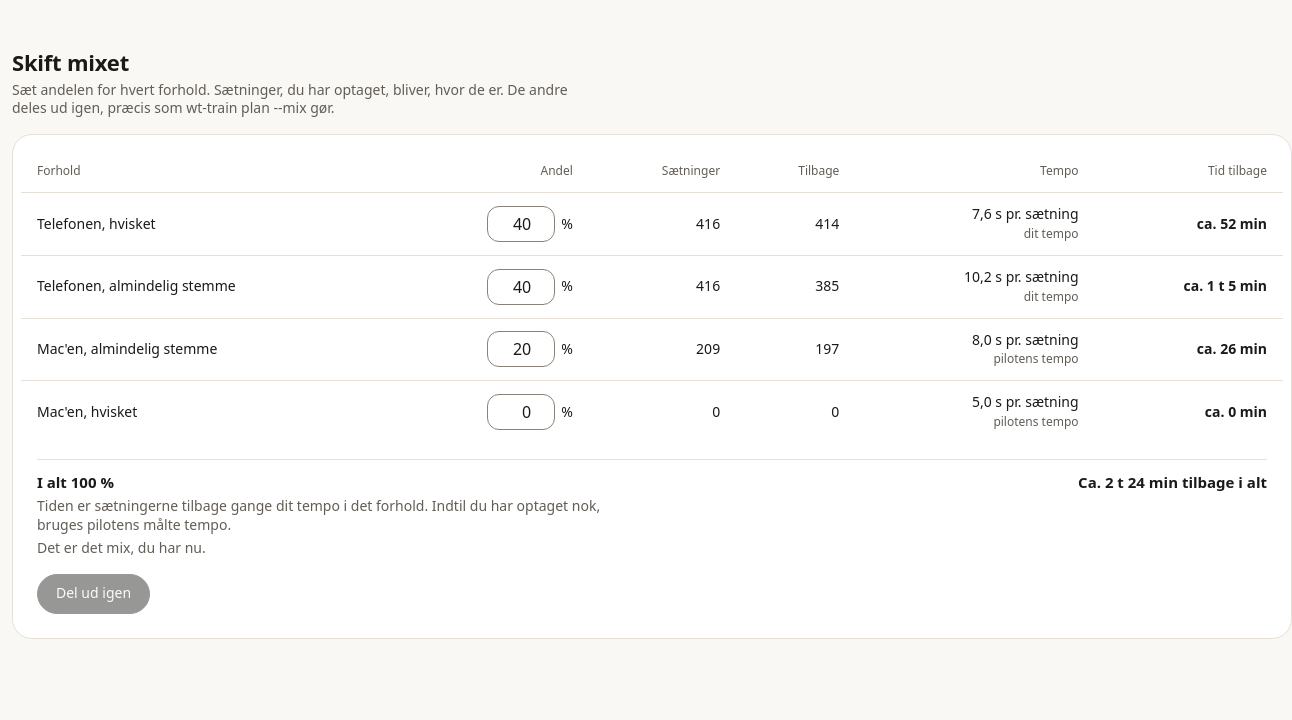
it: the mix › previews a new mix, then deals it as wt-train plan --mix does
Expected: the table is shown, top-left (21, 151), bottom-right (1283, 443)
Replace the text in the number field named "Andel for Telefonen, hvisket i procent" with "30". click: [521, 224]
box: top-left (487, 206), bottom-right (555, 242)
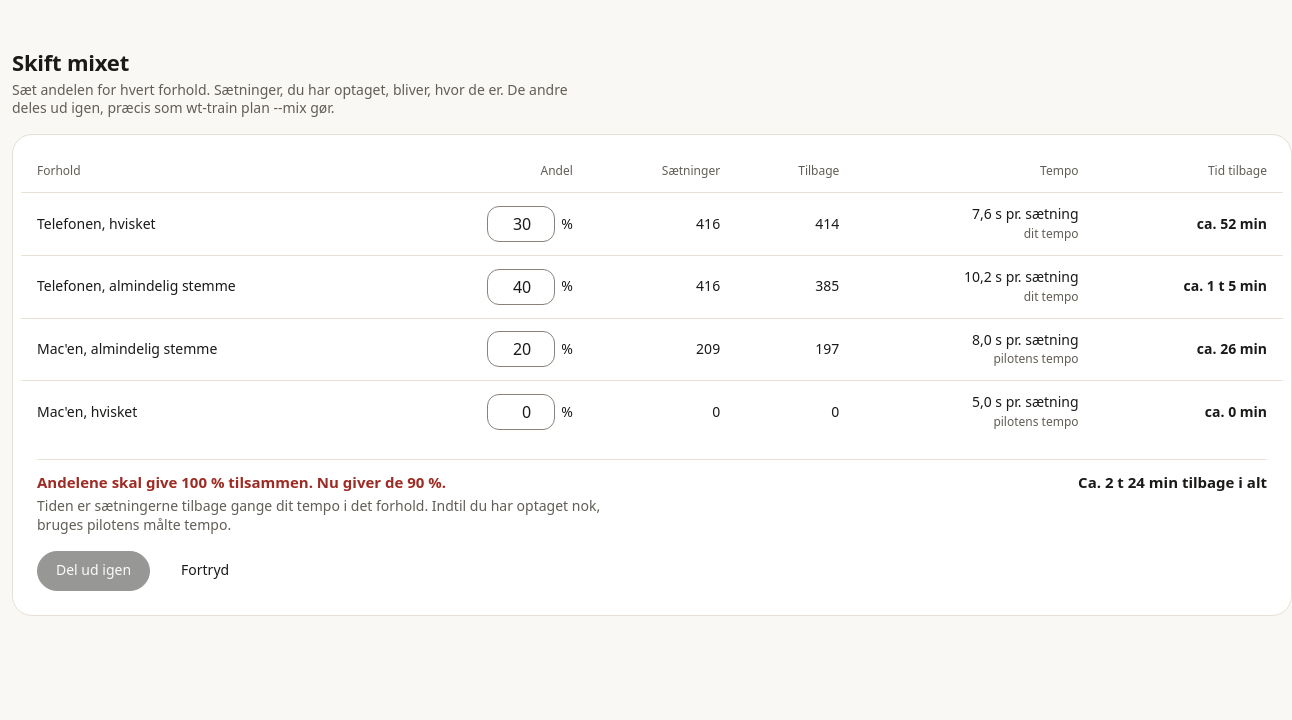
Expected: the button "Del ud igen" is disabled, top-left (37, 551), bottom-right (150, 591)
Expected: the message reads "Andelene skal give 100 % tilsammen. Nu giver de 90 %.", top-left (37, 472), bottom-right (446, 492)
Clear the number field named "Andel for Mac'en, hvisket i procent". click: [521, 412]
box: top-left (487, 394), bottom-right (555, 430)
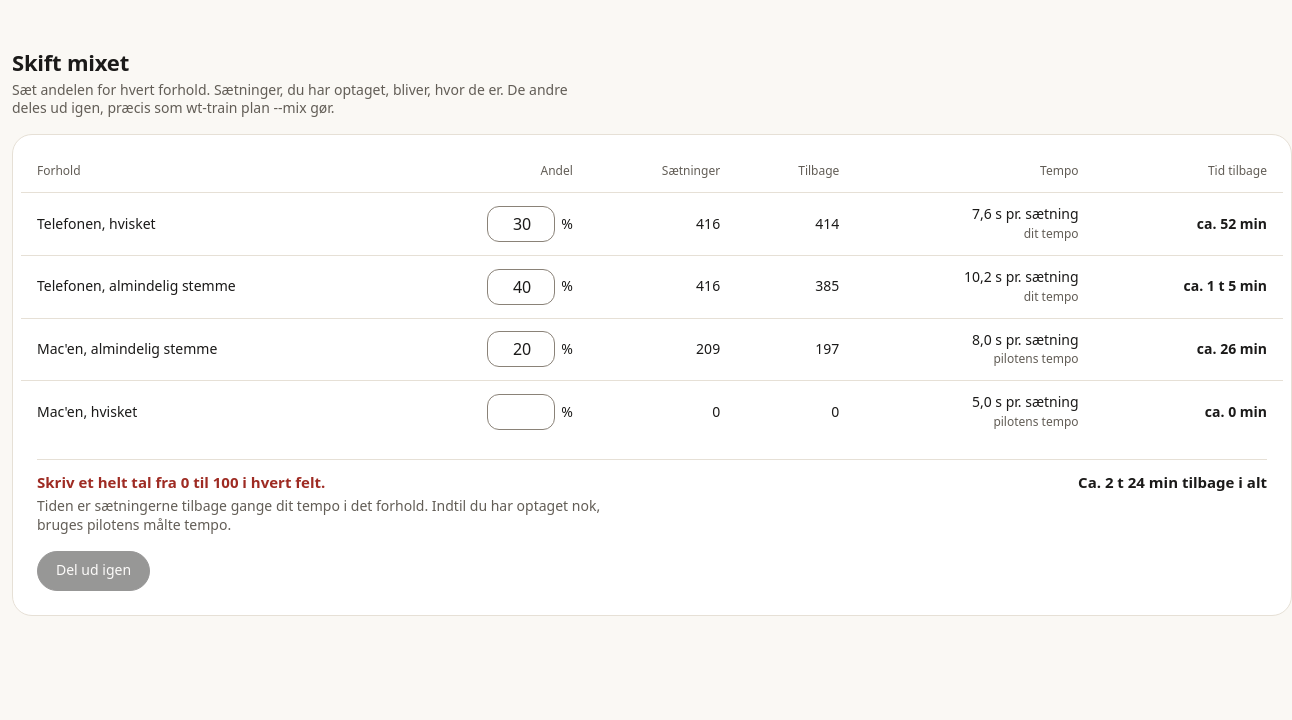
Expected: the message reads "Skriv et helt tal fra 0 til 100 i hvert felt.", top-left (37, 472), bottom-right (325, 492)
Type "10" into the number field named "Andel for Mac'en, hvisket i procent". click: [521, 412]
box: top-left (487, 394), bottom-right (555, 430)
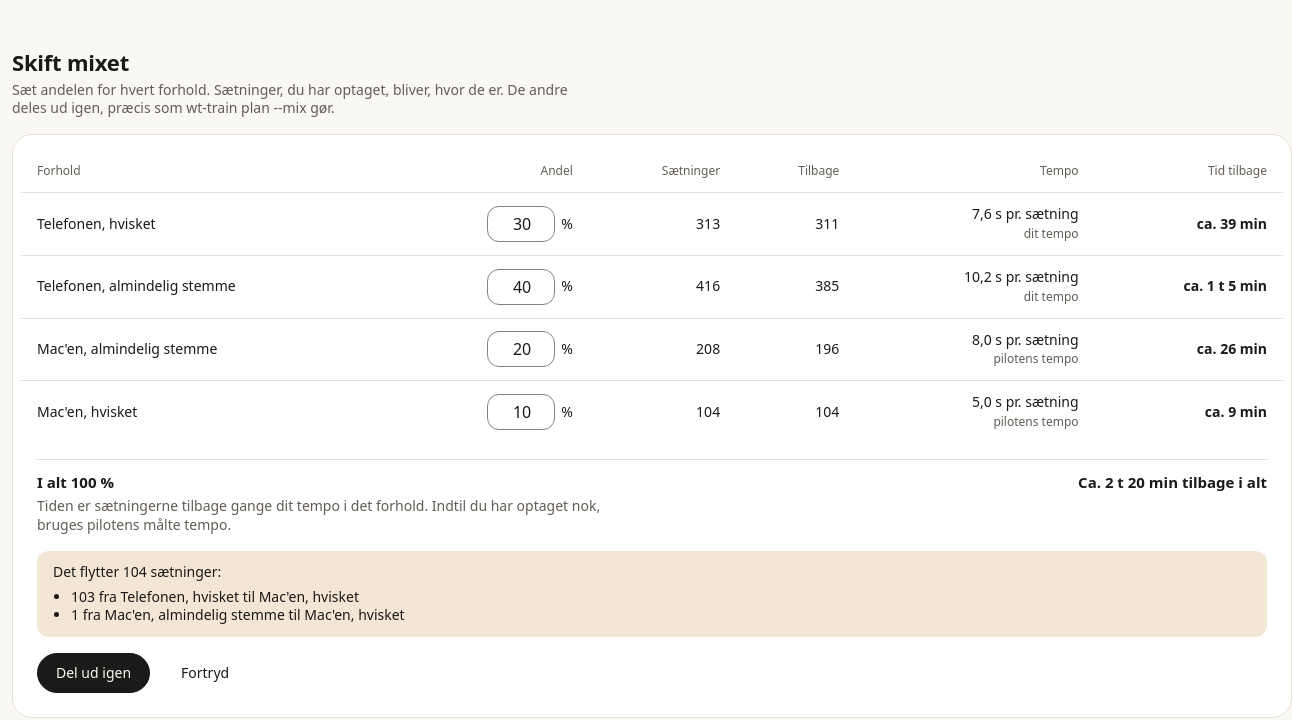
Expected: the list items read "103 fra Telefonen, hvisket til Mac'en, hvisket", "1 fra Mac'en, almindelig stemme til Mac'en, hvisket", in this order, top-left (71, 587), bottom-right (359, 606); top-left (71, 606), bottom-right (405, 624)
Expected: the row "Mac'en, hvisket" shows "104", top-left (696, 402), bottom-right (720, 421)
Click the button "Del ud igen". click: [94, 673]
box: top-left (37, 653), bottom-right (150, 693)
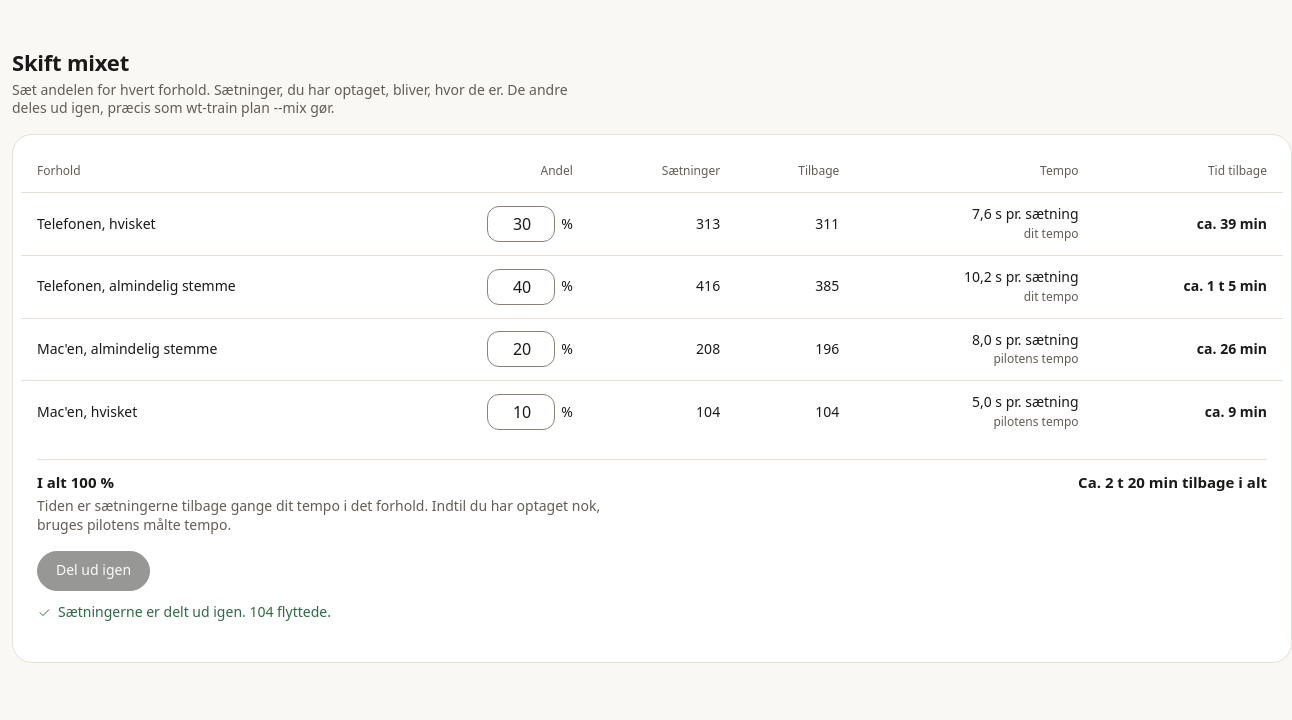
Expected: the text "Sætningerne er delt ud igen. 104 flyttede." is shown, top-left (37, 602), bottom-right (331, 621)
Expected: the button "Del ud igen" is disabled, top-left (37, 551), bottom-right (150, 591)
